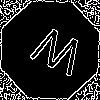W: (25, 25, 87, 86)
